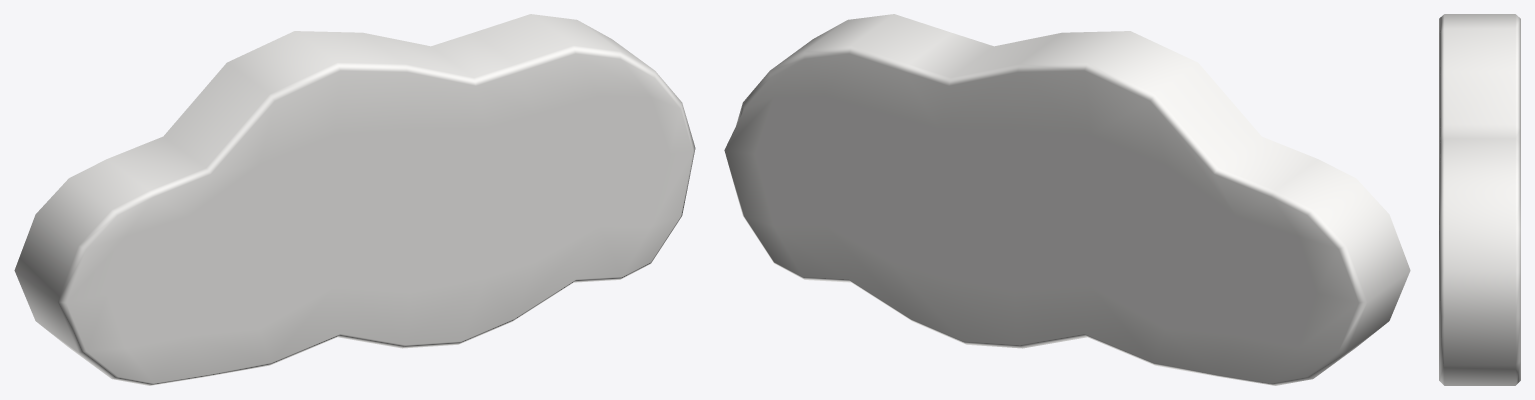
Rendered from Decoration_Cloud_1.glb.
3 renders of one model, left to right at view 1: azimuth 30°, elevation 25°; view 2: azimuth 150°, elevation 25°; view 3: azimuth 270°, elevation 25°, orthographic. The views are drawn at different scales.
Parts seen in each view (by area): view 1: Decoration_Cloud_1; view 2: Decoration_Cloud_1; view 3: Decoration_Cloud_1.
Boxes of the visible parts, x1,y1,x2,y2 form: Decoration_Cloud_1: (14, 14, 695, 385); Decoration_Cloud_1: (724, 14, 1410, 385); Decoration_Cloud_1: (1439, 14, 1520, 385).
Size of the model in its own units: 1.24 by 0.5762 by 0.1651.
1 material, 1 textured.
